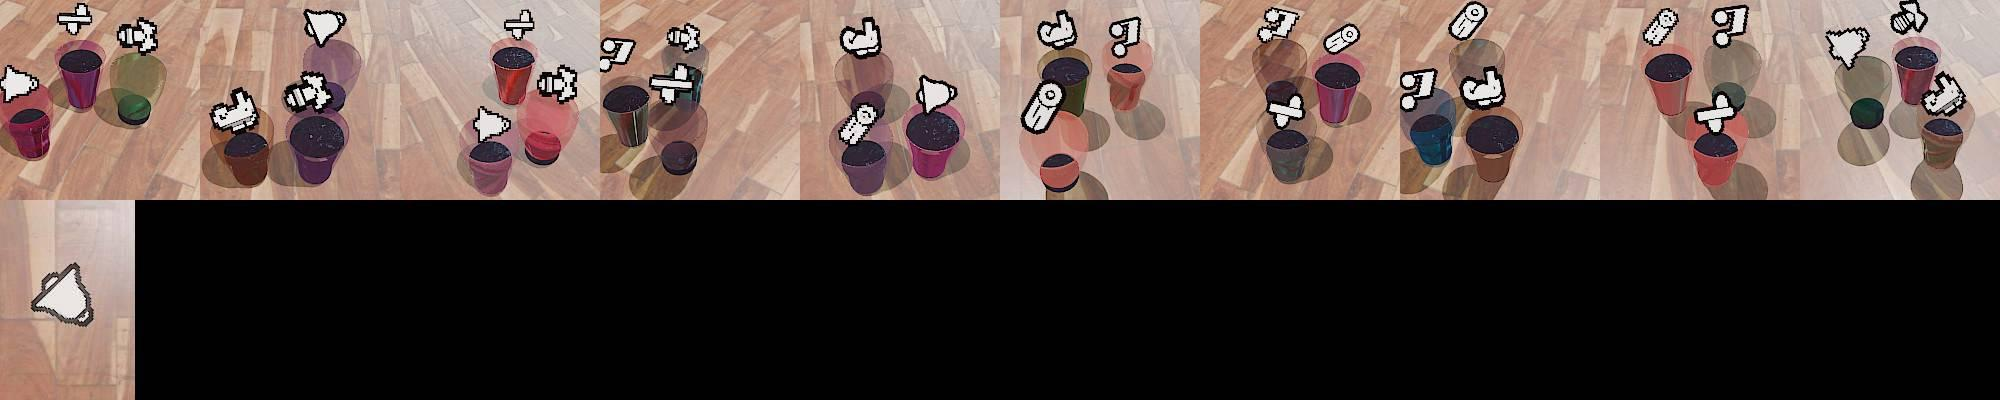icon: (29, 262, 96, 329), (208, 84, 260, 132), (1022, 80, 1069, 134), (283, 69, 335, 113), (1459, 62, 1508, 108), (648, 62, 699, 104), (1824, 27, 1871, 70), (1693, 90, 1740, 134), (838, 98, 880, 146), (1922, 70, 1966, 116), (839, 15, 883, 59), (1710, 5, 1751, 48), (1401, 68, 1440, 112), (916, 74, 958, 115), (302, 9, 346, 48), (538, 64, 580, 103), (1038, 9, 1078, 50), (1265, 88, 1305, 129), (471, 103, 511, 143), (1259, 5, 1301, 43), (117, 17, 159, 55), (1107, 15, 1144, 59), (1448, 1, 1487, 41), (0, 64, 41, 102), (1642, 6, 1679, 47), (56, 3, 94, 37), (1890, 1, 1929, 36), (1321, 20, 1360, 55), (601, 37, 636, 71), (666, 22, 704, 54), (503, 9, 536, 41)
